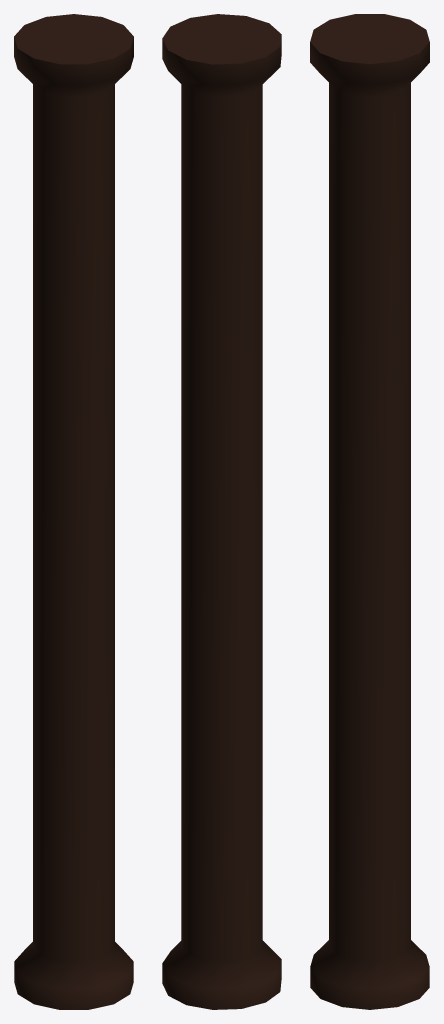
File: pillar.fbx
The picture shows the model from 3 angles, left to right: view 1: azimuth 90°, elevation 25°; view 2: azimuth 150°, elevation 25°; view 3: azimuth 270°, elevation 25°; orthographic projection.
Parts seen in each view (by area): view 1: pCylinder1; view 2: pCylinder1; view 3: pCylinder1.
Part boxes in pixels (left/top/right/bottom): pCylinder1: left=14, top=14, right=133, bottom=1009; pCylinder1: left=162, top=14, right=281, bottom=1009; pCylinder1: left=310, top=14, right=429, bottom=1009.
Size of the model in its own units: 3.64 by 31.97 by 3.67.
